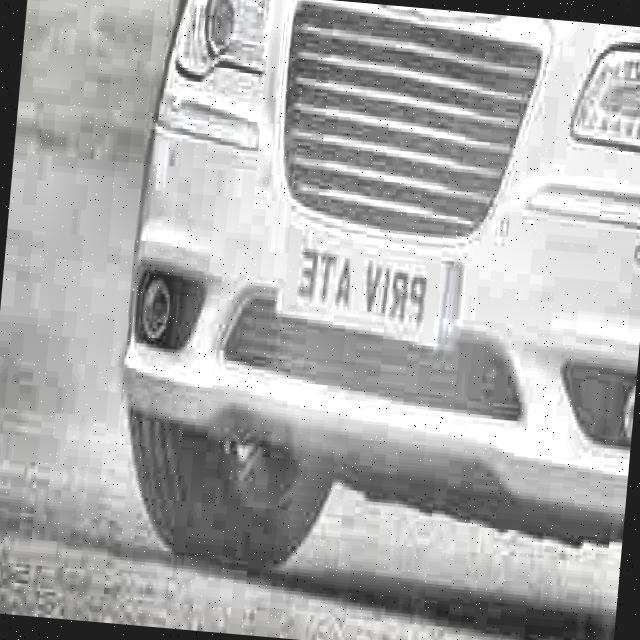license_plate: (276, 228, 466, 347)
